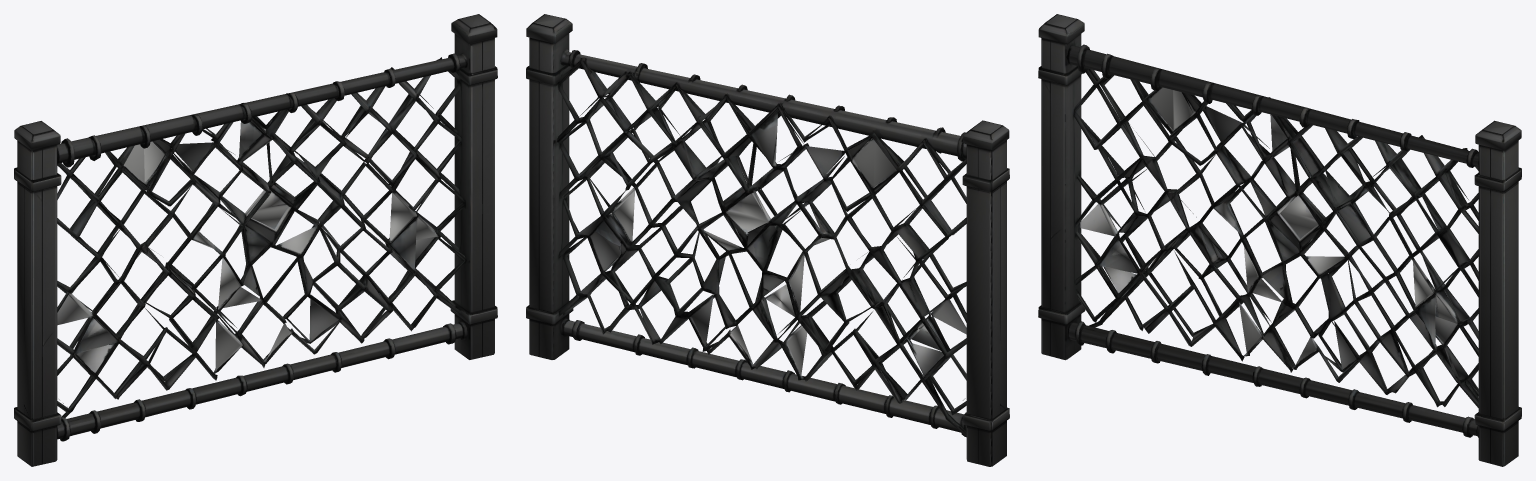
File: fence.glb
3 renders of one model, left to right at view 1: azimuth 30°, elevation 25°; view 2: azimuth 150°, elevation 25°; view 3: azimuth 330°, elevation 25°, orthographic.
Parts seen in each view (by area): view 1: tripo_node_f5dd3b5a-f1a7-42d6-8be4-dd5d7122fadb; view 2: tripo_node_f5dd3b5a-f1a7-42d6-8be4-dd5d7122fadb; view 3: tripo_node_f5dd3b5a-f1a7-42d6-8be4-dd5d7122fadb.
Boxes of the visible parts, box(x1,y1,x2,y2) form: tripo_node_f5dd3b5a-f1a7-42d6-8be4-dd5d7122fadb: box(14, 14, 497, 466); tripo_node_f5dd3b5a-f1a7-42d6-8be4-dd5d7122fadb: box(526, 14, 1009, 466); tripo_node_f5dd3b5a-f1a7-42d6-8be4-dd5d7122fadb: box(1038, 14, 1521, 466).
Size of the model in its own units: 1.62 by 1.1 by 0.1236.
1 material, 1 textured.
